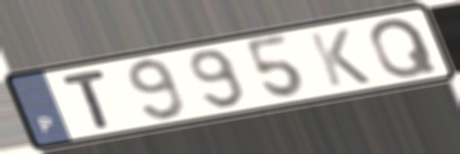5: (240, 32, 308, 103)
9: (122, 56, 191, 123), (186, 47, 250, 111)
K: (304, 26, 375, 90)
Q: (367, 16, 442, 81)
T: (57, 67, 114, 131)
